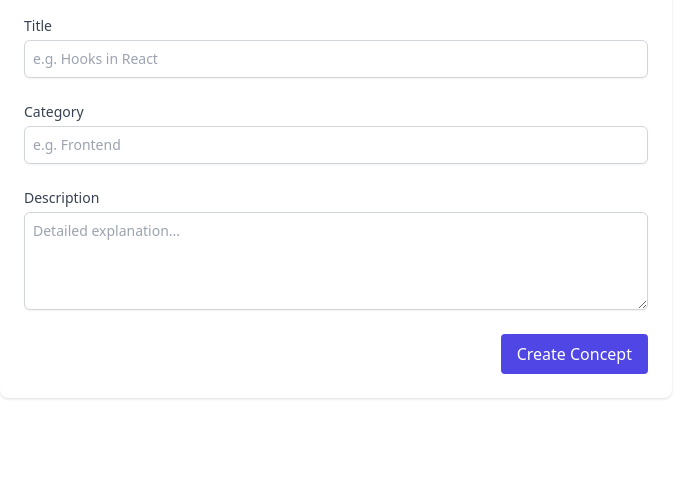
Scenario: ConceptForm › should handle submission error
The width and height of the screenshot is (689, 488).
Type "New Title" into the field labelled "Title" at (336, 59), box [24,40,648,78]
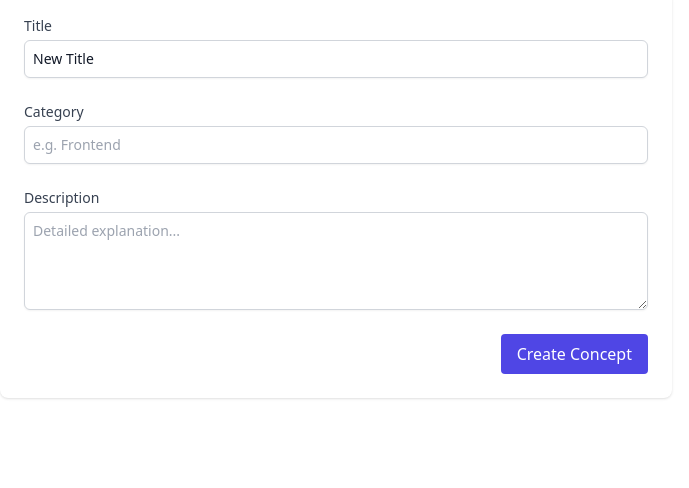
Type "New Category" into the field labelled "Category" at (336, 145), box [24,126,648,164]
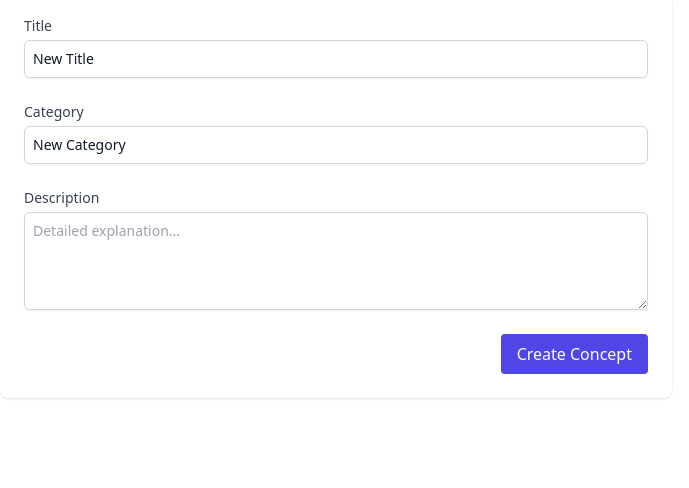
Type "Long enough description for validation" into the text box labelled "Description" at (336, 261), box [24,212,648,310]
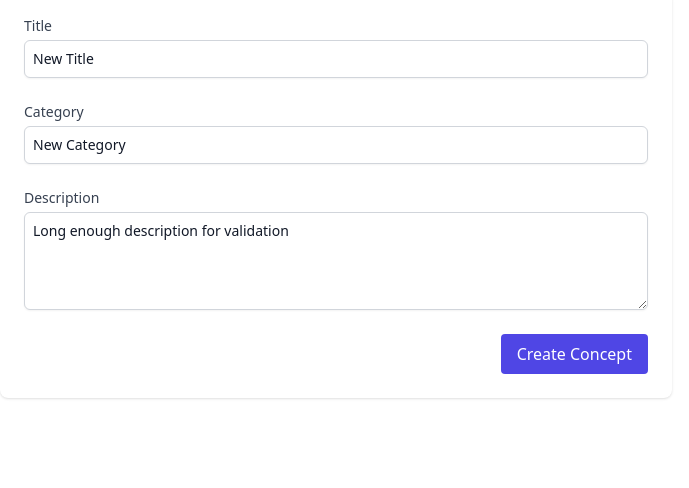
Click the button "Create Concept" at (574, 354), box [501,334,648,374]
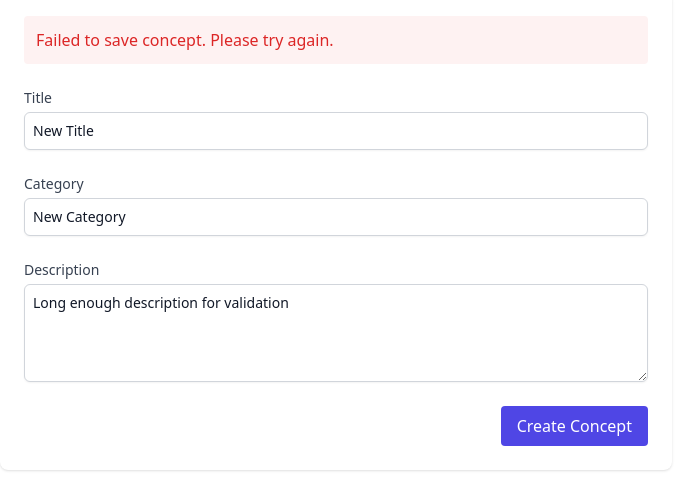
expect the text "Failed to save concept. Please try again." is shown: met, box [24,16,648,64]
